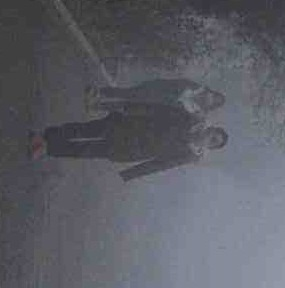person: (28, 111, 229, 183), (83, 73, 227, 119)
